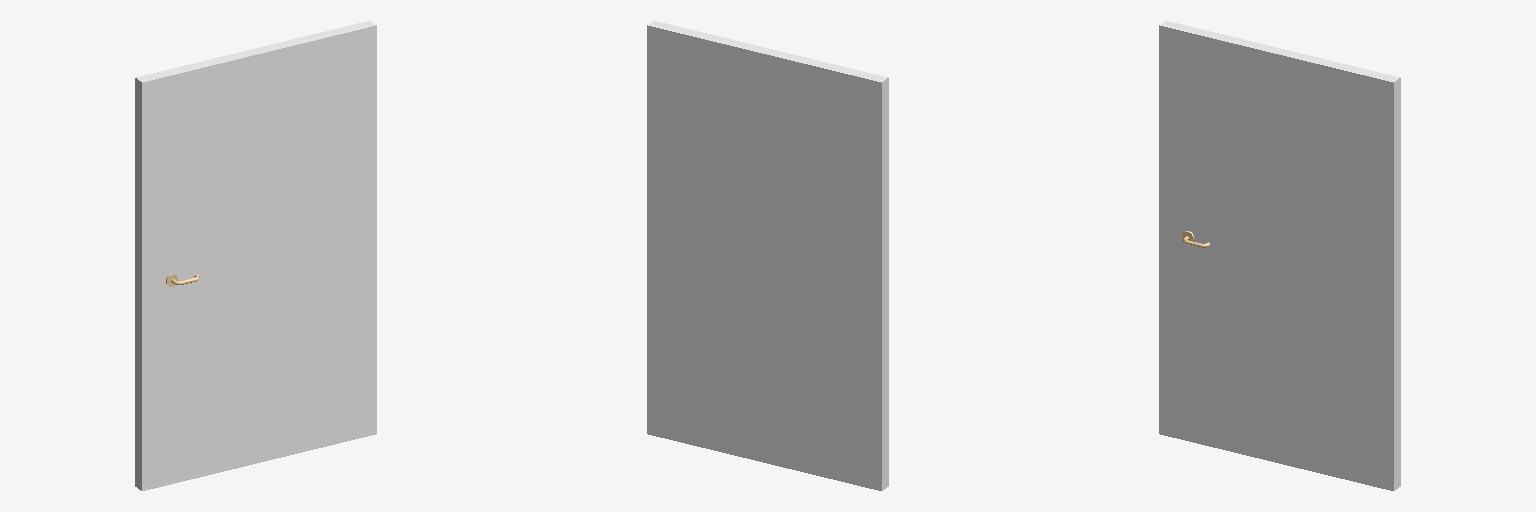
robot.urdf — model_door2:
<?xml version="1.0" encoding="utf-8"?>
<!-- This URDF was automatically created by SolidWorks to URDF Exporter! Originally created by [author] ([email redacted]) 
     Commit Version: 1.6.0-1-g15f4949  Build Version: 1.6.7594.29634
     For more information, please see http://wiki.ros.org/sw_urdf_exporter -->
<robot name="model_door2">
  <link name="base_link">
    <!-- <inertial>
      <origin
        xyz="0.60009 0.030005 1"
        rpy="0 0 0" />
      <mass
        value="143.97" />
      <inertia
        ixx="48.043"
        ixy="0.00031815"
        ixz="-6.9402E-19"
        iyy="65.274"
        iyz="-2.9364E-15"
        izz="17.317" />
    </inertial> -->
    <visual>
      <origin xyz="0 0 0" rpy="0 0 0" />
      <geometry>
        <mesh filename="package://model_door2/meshes/base_link.STL" />
      </geometry>
      <material name="Front">
        <color rgba="1 1 1 1" />
      </material>
    </visual>
    <!-- <collision>
      <origin xyz="0 0 0" rpy="0 0 0" />
      <geometry>
        <mesh filename="package://model_door2/meshes/base_link.STL" />
      </geometry>
    </collision> -->
  </link>
  <link name="link1">
    <inertial>
      <origin xyz="0.022886 0 0.017832" rpy="0 0 0" />
      <!-- <origin xyz="0.0 0.0 0.0" rpy="0 0 0" /> -->

      <!-- <mass
        value="0.8344" /> -->
      <mass
        value="0.01" />
      <inertia
        ixx="0.00054037"
        ixy="-1.2285E-20"
        ixz="-0.00049637"
        iyy="0.0017352"
        iyz="-9.7971E-21"
        izz="0.0014255" />
    </inertial>
    <visual>
      <!-- <origin xyz="0.08 0.0 0.09" rpy="0 0 0" /> -->
      <origin xyz="0.00 0.0 0.00" rpy="0 0 0" />

      <geometry>
        <mesh filename="package://model_door2/meshes/link1.STL" />
        <!-- <box size="0.15 0.018 0.018"/> -->
        <!-- <cylinder radius="0.009" length="0.25" /> -->
      </geometry>
      <material name="Front">
        <color rgba="1 0.87 0.68 1" />
      </material>
    </visual>
    
    <collision>
      <!-- <origin xyz="0.08 0.0 0.09" rpy="0 0 0" /> -->
      <origin xyz="0.00 0.0 0.00" rpy="0 0 0" />

      <geometry>
        <mesh filename="package://model_door2/meshes/link1.STL" />
        <!-- <box size="0.15 0.018 0.018"/> -->
        
        <!-- <cylinder radius="0.009" length="0.15" /> -->
      </geometry>
    </collision>
  </link>
  <joint name="joint1" type="revolute">
    <origin xyz="0.15 0 1" rpy="1.5708 0 0" />
    <parent link="base_link" />
    <child link="link1" />
    <axis xyz="0 0 -1" />
    <limit lower="0" upper="1.047" effort="100" velocity="1" />
    <!-- <dynamics damping="0" friction="0.0"/>
     -->
  </joint>
</robot>

--- Render facts (derived) ---
The picture shows the robot from 3 angles, left to right: view 1: azimuth 30°, elevation 25°; view 2: azimuth 150°, elevation 25°; view 3: azimuth 330°, elevation 25°; orthographic projection.
Robot: model_door2 — 2 links, 1 joints (1 revolute); root link base_link; default pose: every joint at zero.
Visible links, largest first — view 1: base_link; view 2: base_link; view 3: base_link.
Boxes of the visible links, box(x1,y1,x2,y2) form: base_link: box(135, 21, 376, 490); base_link: box(647, 21, 888, 490); base_link: box(1159, 21, 1400, 490).
Size in the robot's own frame: 1.2 by 0.1189 by 2 metres.
2 mesh visuals loaded from 2 distinct referenced files (2 binary STL).